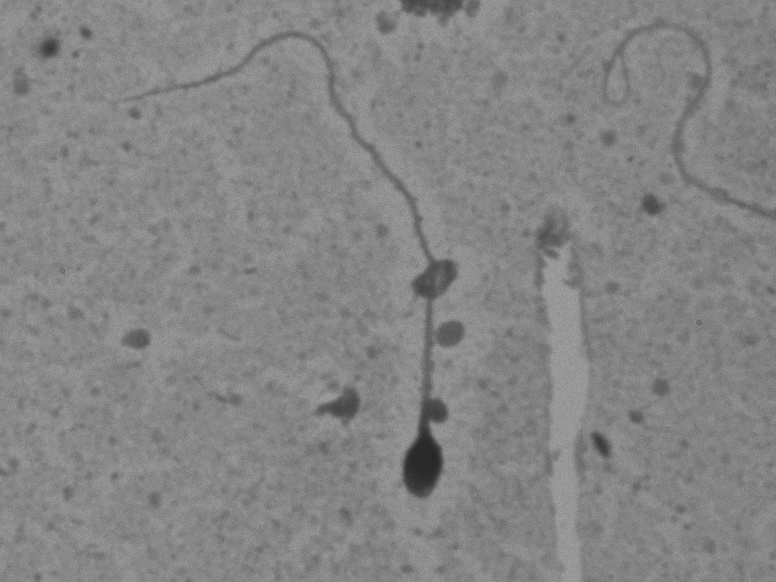Abnormal: (118, 29, 489, 507)
